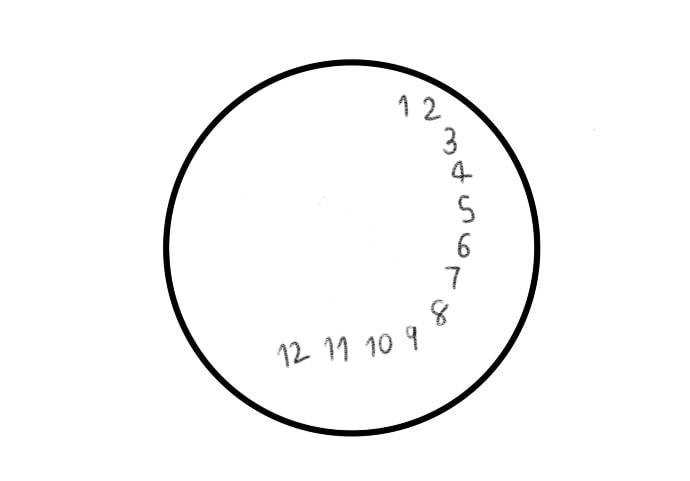eight: (427, 296, 447, 327)
eleven: (322, 331, 352, 363)
five: (456, 193, 476, 224)
four: (451, 158, 474, 186)
nine: (403, 323, 422, 352)
one: (399, 93, 410, 117)
seven: (443, 264, 461, 289)
six: (456, 231, 472, 259)
ten: (366, 331, 393, 360)
three: (442, 125, 459, 158)
twelve: (275, 341, 311, 370)
two: (422, 97, 443, 122)
